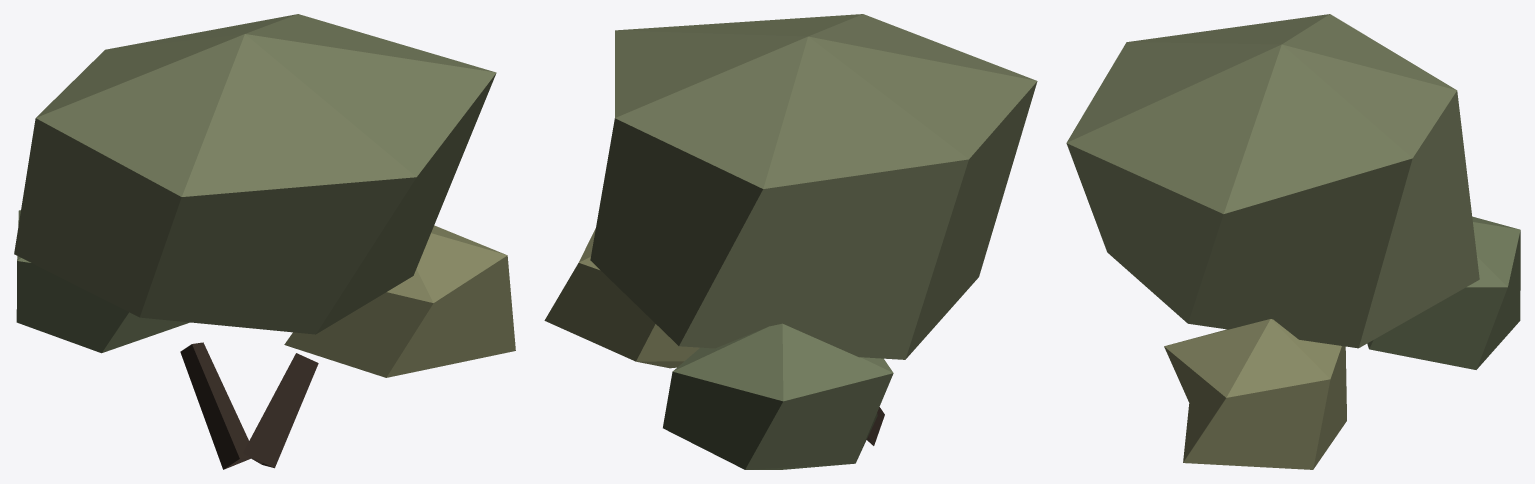
Rendered from mesquite-far.glb.
The picture shows the model from 3 angles, left to right: view 1: azimuth 30°, elevation 25°; view 2: azimuth 150°, elevation 25°; view 3: azimuth 270°, elevation 25°; orthographic projection. The views are drawn at different scales.
Visible parts, largest first — view 1: mesquite-far / foliage-core, mesquite-far / wood; view 2: mesquite-far / foliage-core; view 3: mesquite-far / foliage-core.
Boxes of the visible parts, x1,y1,x2,y2 form: mesquite-far / foliage-core: (14, 14, 515, 377); mesquite-far / wood: (180, 342, 318, 469); mesquite-far / foliage-core: (544, 14, 1037, 469); mesquite-far / foliage-core: (1066, 14, 1520, 469).
Bounding box in the file's own units: 3.82 × 3.5 × 3.69.
